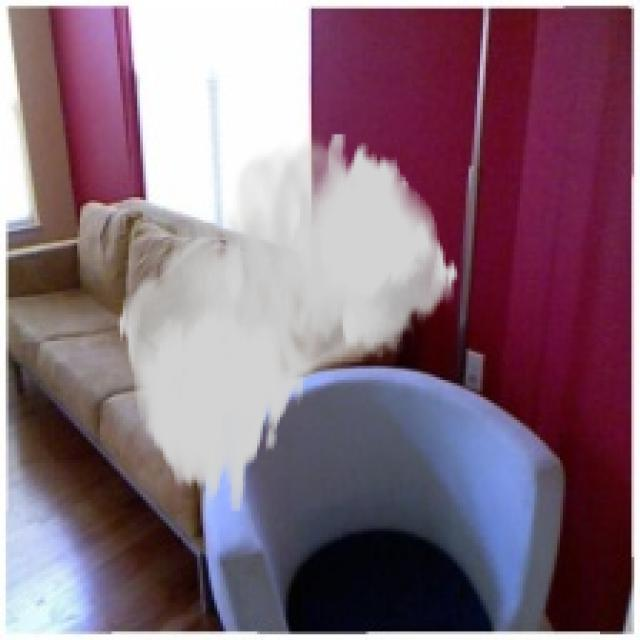smoke: (117, 132, 460, 512)
